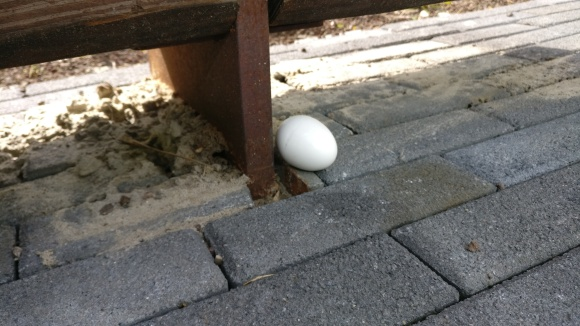egg: (274, 114, 340, 173)
